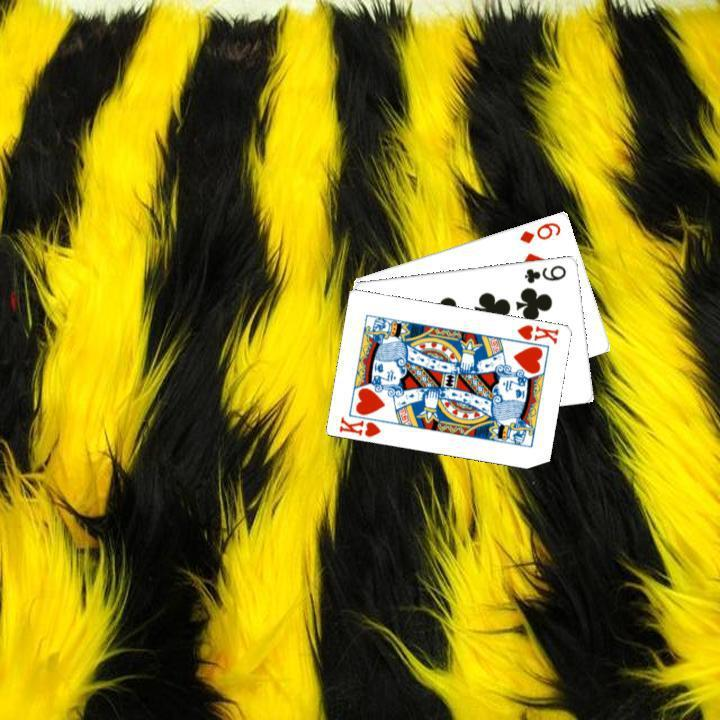6: (515, 217, 563, 245)
9: (520, 260, 568, 285)
K: (335, 412, 383, 439), (513, 320, 561, 346)
